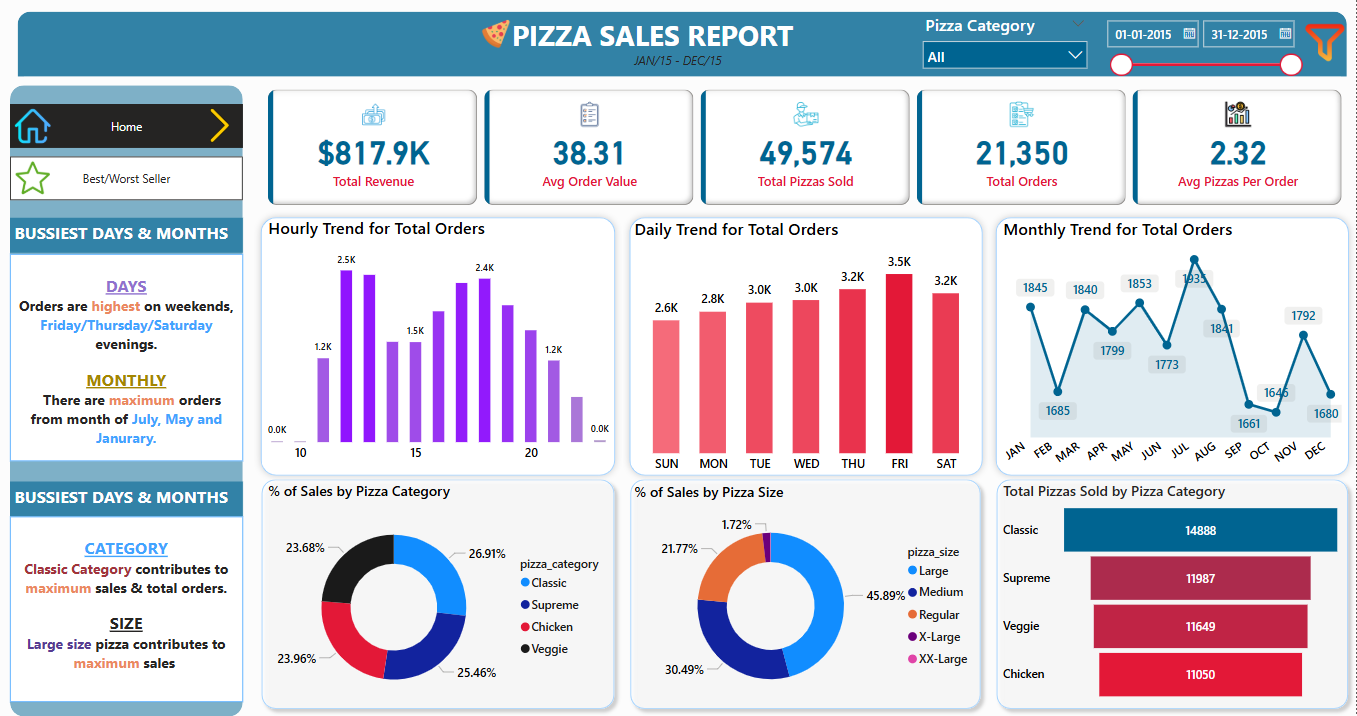

The dashboard page shown, as its layout file describes it:
{"tool":"powerbi","page":{"name":"Home","canvas":[1550,820],"ordinal":0},"visuals":[{"type":"shape","box":[19.7,14.1,1519.3,74.6],"z":0},{"type":"textbox","box":[580.1,13.7,389.7,94.7],"z":1000},{"type":"shape","box":[11.1,98.9,266,721.4],"z":2000},{"type":"cardVisual","fields":{"Data":["pizza_sales.Total Revenue","pizza_sales.Avg Order Value","pizza_sales.Total Pizzas Sold","pizza_sales.Total Orders","pizza_sales.Avg Pizzas Per Order"]},"box":[301.3,98.6,1237.7,142.2],"z":3000},{"type":"shape","box":[711.1,240.8,419.6,311.2],"z":4000},{"type":"shape","box":[1130.4,240.8,419.6,311.2],"z":5000},{"type":"shape","box":[290.1,539.3,421,280.2],"z":6000},{"type":"shape","box":[711.1,539.3,418.2,280.2],"z":7000},{"type":"shape","box":[1130.7,539.3,419.6,280.2],"z":8000},{"type":"columnChart","title":"Daily Trend for Total Orders","fields":{"Category":["pizza_sales.Order Day"],"Y":["pizza_sales.Total Orders"]},"box":[719.5,250.6,404.1,301.3],"z":9000},{"type":"lineChart","title":"Monthly Trend for Total Orders","fields":{"Category":["pizza_sales.Month order"],"Y":["pizza_sales.Total Orders"]},"box":[1141.9,250.6,397.1,301.3],"z":10000},{"type":"image","box":[526.6,18.3,78.9,42.2],"z":11000},{"type":"donutChart","title":"% of Sales by Pizza Category","fields":{"Y":["pizza_sales.Total Revenue"],"Category":["pizza_sales.pizza_category"]},"box":[301.3,550.6,409.7,268.9],"z":12000},{"type":"donutChart","title":"% of Sales by Pizza Size","fields":{"Y":["pizza_sales.Total Revenue"],"Category":["pizza_sales.pizza_size"]},"box":[719.5,552,404.1,263.3],"z":13000},{"type":"funnel","title":"Total Pizzas Sold by Pizza Category","fields":{"Y":["pizza_sales.Total Pizzas Sold"],"Category":["pizza_sales.pizza_category"]},"box":[1141.9,550.6,397.1,257.7],"z":14000},{"type":"slicer","fields":{"Values":["pizza_sales.pizza_category"]},"box":[1044.8,11.3,208.4,74.6],"z":15000},{"type":"image","box":[1479,0,71,98.9],"z":16000},{"type":"slicer","fields":{"Values":["pizza_sales.order_date"]},"box":[1253.2,14.1,243.6,74.6],"z":17000},{"type":"textbox","box":[11.1,250.7,266,40.4],"z":18000},{"type":"textbox","box":[11.1,291.1,266,236.8],"z":19000},{"type":"textbox","box":[11.1,551.5,266,40.4],"z":20000},{"type":"textbox","box":[11.1,591.9,266,211.7],"z":21000},{"type":"shape","box":[290.1,240.8,421,311.2],"z":22000},{"type":"columnChart","title":"Hourly Trend for Total Orders","fields":{"Y":["pizza_sales.Total Orders"],"Category":["pizza_sales.Hour"]},"box":[301.3,249.2,399.9,290.1],"z":23000},{"type":"pageNavigator","box":[11.3,119.7,266.1,50.7],"z":24000},{"type":"pageNavigator","box":[11.3,180.2,266.1,50.7],"z":25000},{"type":"image","box":[11.3,119.7,52.1,50.7],"z":26000},{"type":"image","box":[11.3,180.2,52.1,49.3],"z":27000},{"type":"image","box":[223.9,119.7,53.5,49.3],"z":27001}]}

Visuals, with their boxes in screenshot pixels (x1, y1, x2, y2), scaled from the page's 1550x820 canvas onto the 1357x716 screenshot:
shape: {"left": 17, "top": 12, "right": 1347, "bottom": 77}
textbox: {"left": 508, "top": 12, "right": 849, "bottom": 95}
shape: {"left": 10, "top": 86, "right": 243, "bottom": 715}
cardVisual - pizza_sales.Total Revenue x pizza_sales.Avg Order Value: {"left": 264, "top": 86, "right": 1347, "bottom": 210}
shape: {"left": 623, "top": 210, "right": 990, "bottom": 482}
shape: {"left": 990, "top": 210, "right": 1356, "bottom": 482}
shape: {"left": 254, "top": 471, "right": 623, "bottom": 715}
shape: {"left": 623, "top": 471, "right": 989, "bottom": 715}
shape: {"left": 990, "top": 471, "right": 1356, "bottom": 715}
"Daily Trend for Total Orders" columnChart: {"left": 630, "top": 219, "right": 984, "bottom": 482}
"Monthly Trend for Total Orders" lineChart: {"left": 1000, "top": 219, "right": 1347, "bottom": 482}
image: {"left": 461, "top": 16, "right": 530, "bottom": 53}
"% of Sales by Pizza Category" donutChart: {"left": 264, "top": 481, "right": 622, "bottom": 715}
"% of Sales by Pizza Size" donutChart: {"left": 630, "top": 482, "right": 984, "bottom": 712}
"Total Pizzas Sold by Pizza Category" funnel: {"left": 1000, "top": 481, "right": 1347, "bottom": 706}
slicer - pizza_sales.pizza_category: {"left": 915, "top": 10, "right": 1097, "bottom": 75}
image: {"left": 1295, "top": 0, "right": 1356, "bottom": 86}
slicer - pizza_sales.order_date: {"left": 1097, "top": 12, "right": 1310, "bottom": 77}
textbox: {"left": 10, "top": 219, "right": 243, "bottom": 254}
textbox: {"left": 10, "top": 254, "right": 243, "bottom": 461}
textbox: {"left": 10, "top": 482, "right": 243, "bottom": 517}
textbox: {"left": 10, "top": 517, "right": 243, "bottom": 702}
shape: {"left": 254, "top": 210, "right": 623, "bottom": 482}
"Hourly Trend for Total Orders" columnChart: {"left": 264, "top": 218, "right": 614, "bottom": 471}
pageNavigator: {"left": 10, "top": 105, "right": 243, "bottom": 149}
pageNavigator: {"left": 10, "top": 157, "right": 243, "bottom": 202}
image: {"left": 10, "top": 105, "right": 56, "bottom": 149}
image: {"left": 10, "top": 157, "right": 56, "bottom": 200}
image: {"left": 196, "top": 105, "right": 243, "bottom": 148}
